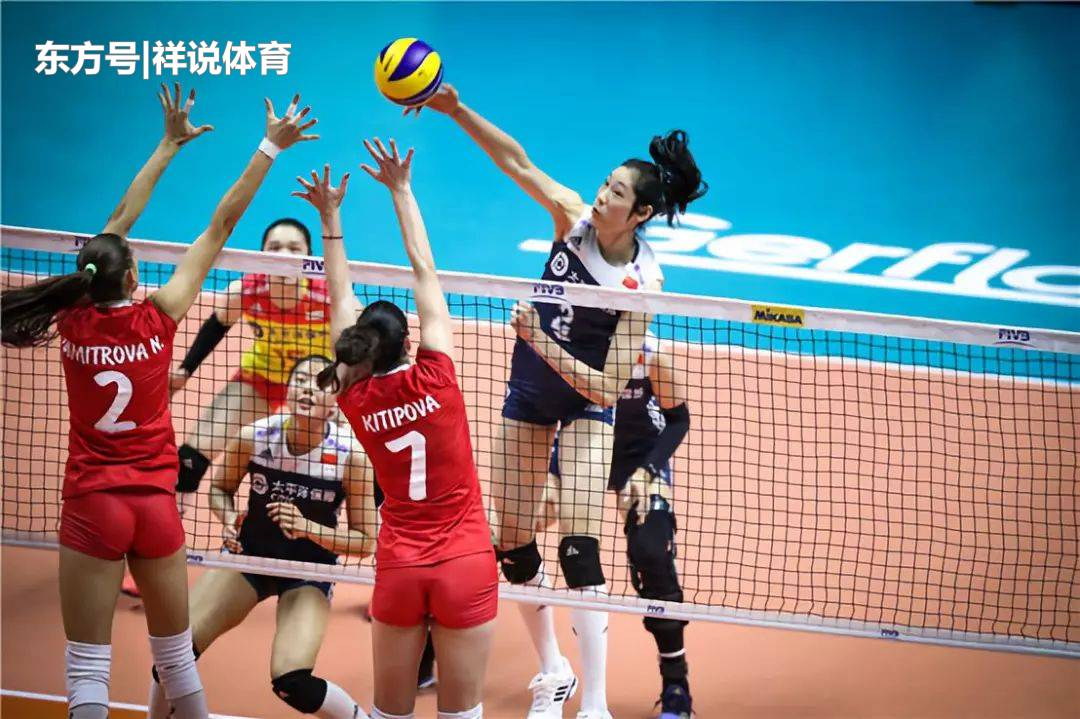ball: (374, 36, 445, 105)
